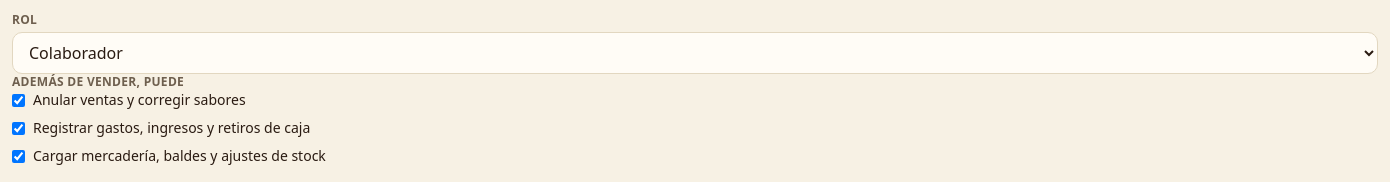
Test: RolYPermisos › al elegir dueño las casillas desaparecen: el dueño puede todo
Select "Dueño" in the dropdown: (695, 53) [12,32,1378,74]
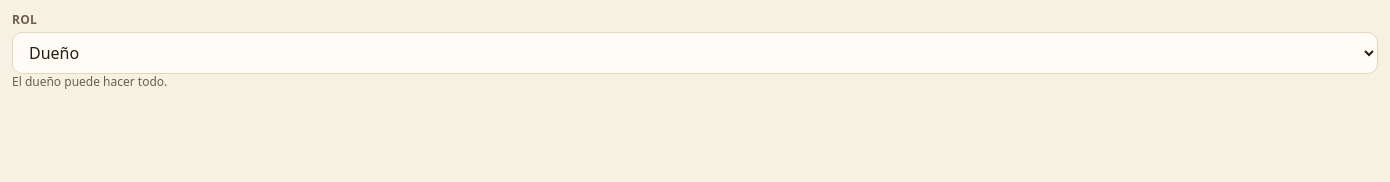
Expected: no checkboxes are shown
Expected: the text "El dueño puede hacer todo." is shown, [12,73,167,90]
